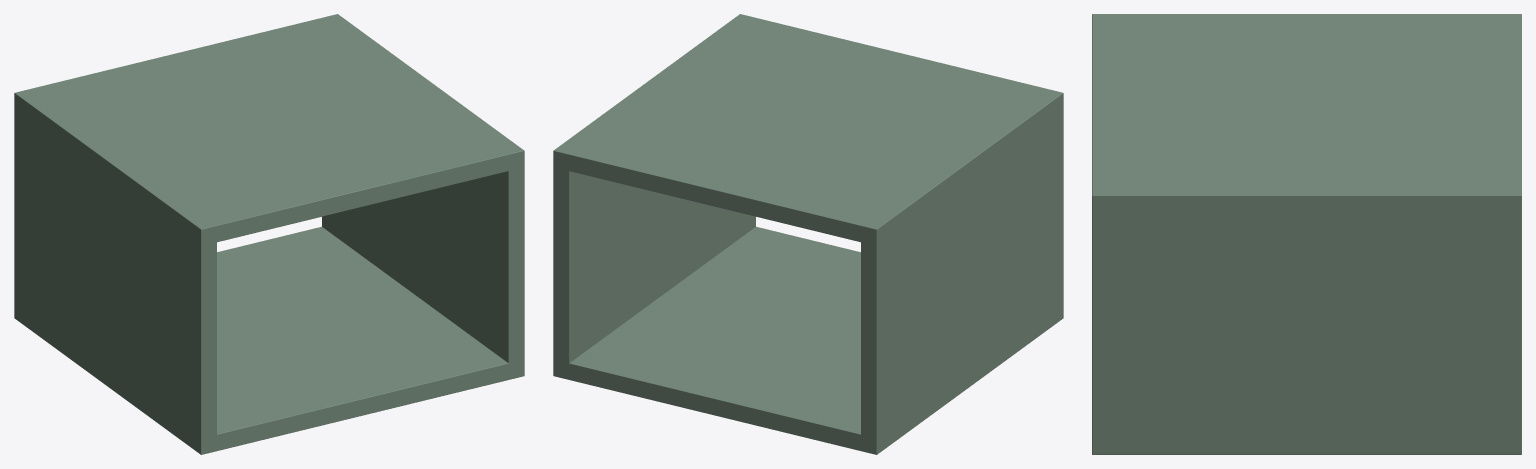
File: MOD_1X07_A_O_VA.glb
3 views of the same model, side by side, from view 1: azimuth 30°, elevation 25°; view 2: azimuth 150°, elevation 25°; view 3: azimuth 270°, elevation 25° (orthographic). The views are drawn at different scales.
Size of the model in its own units: 360 by 240 by 360.
